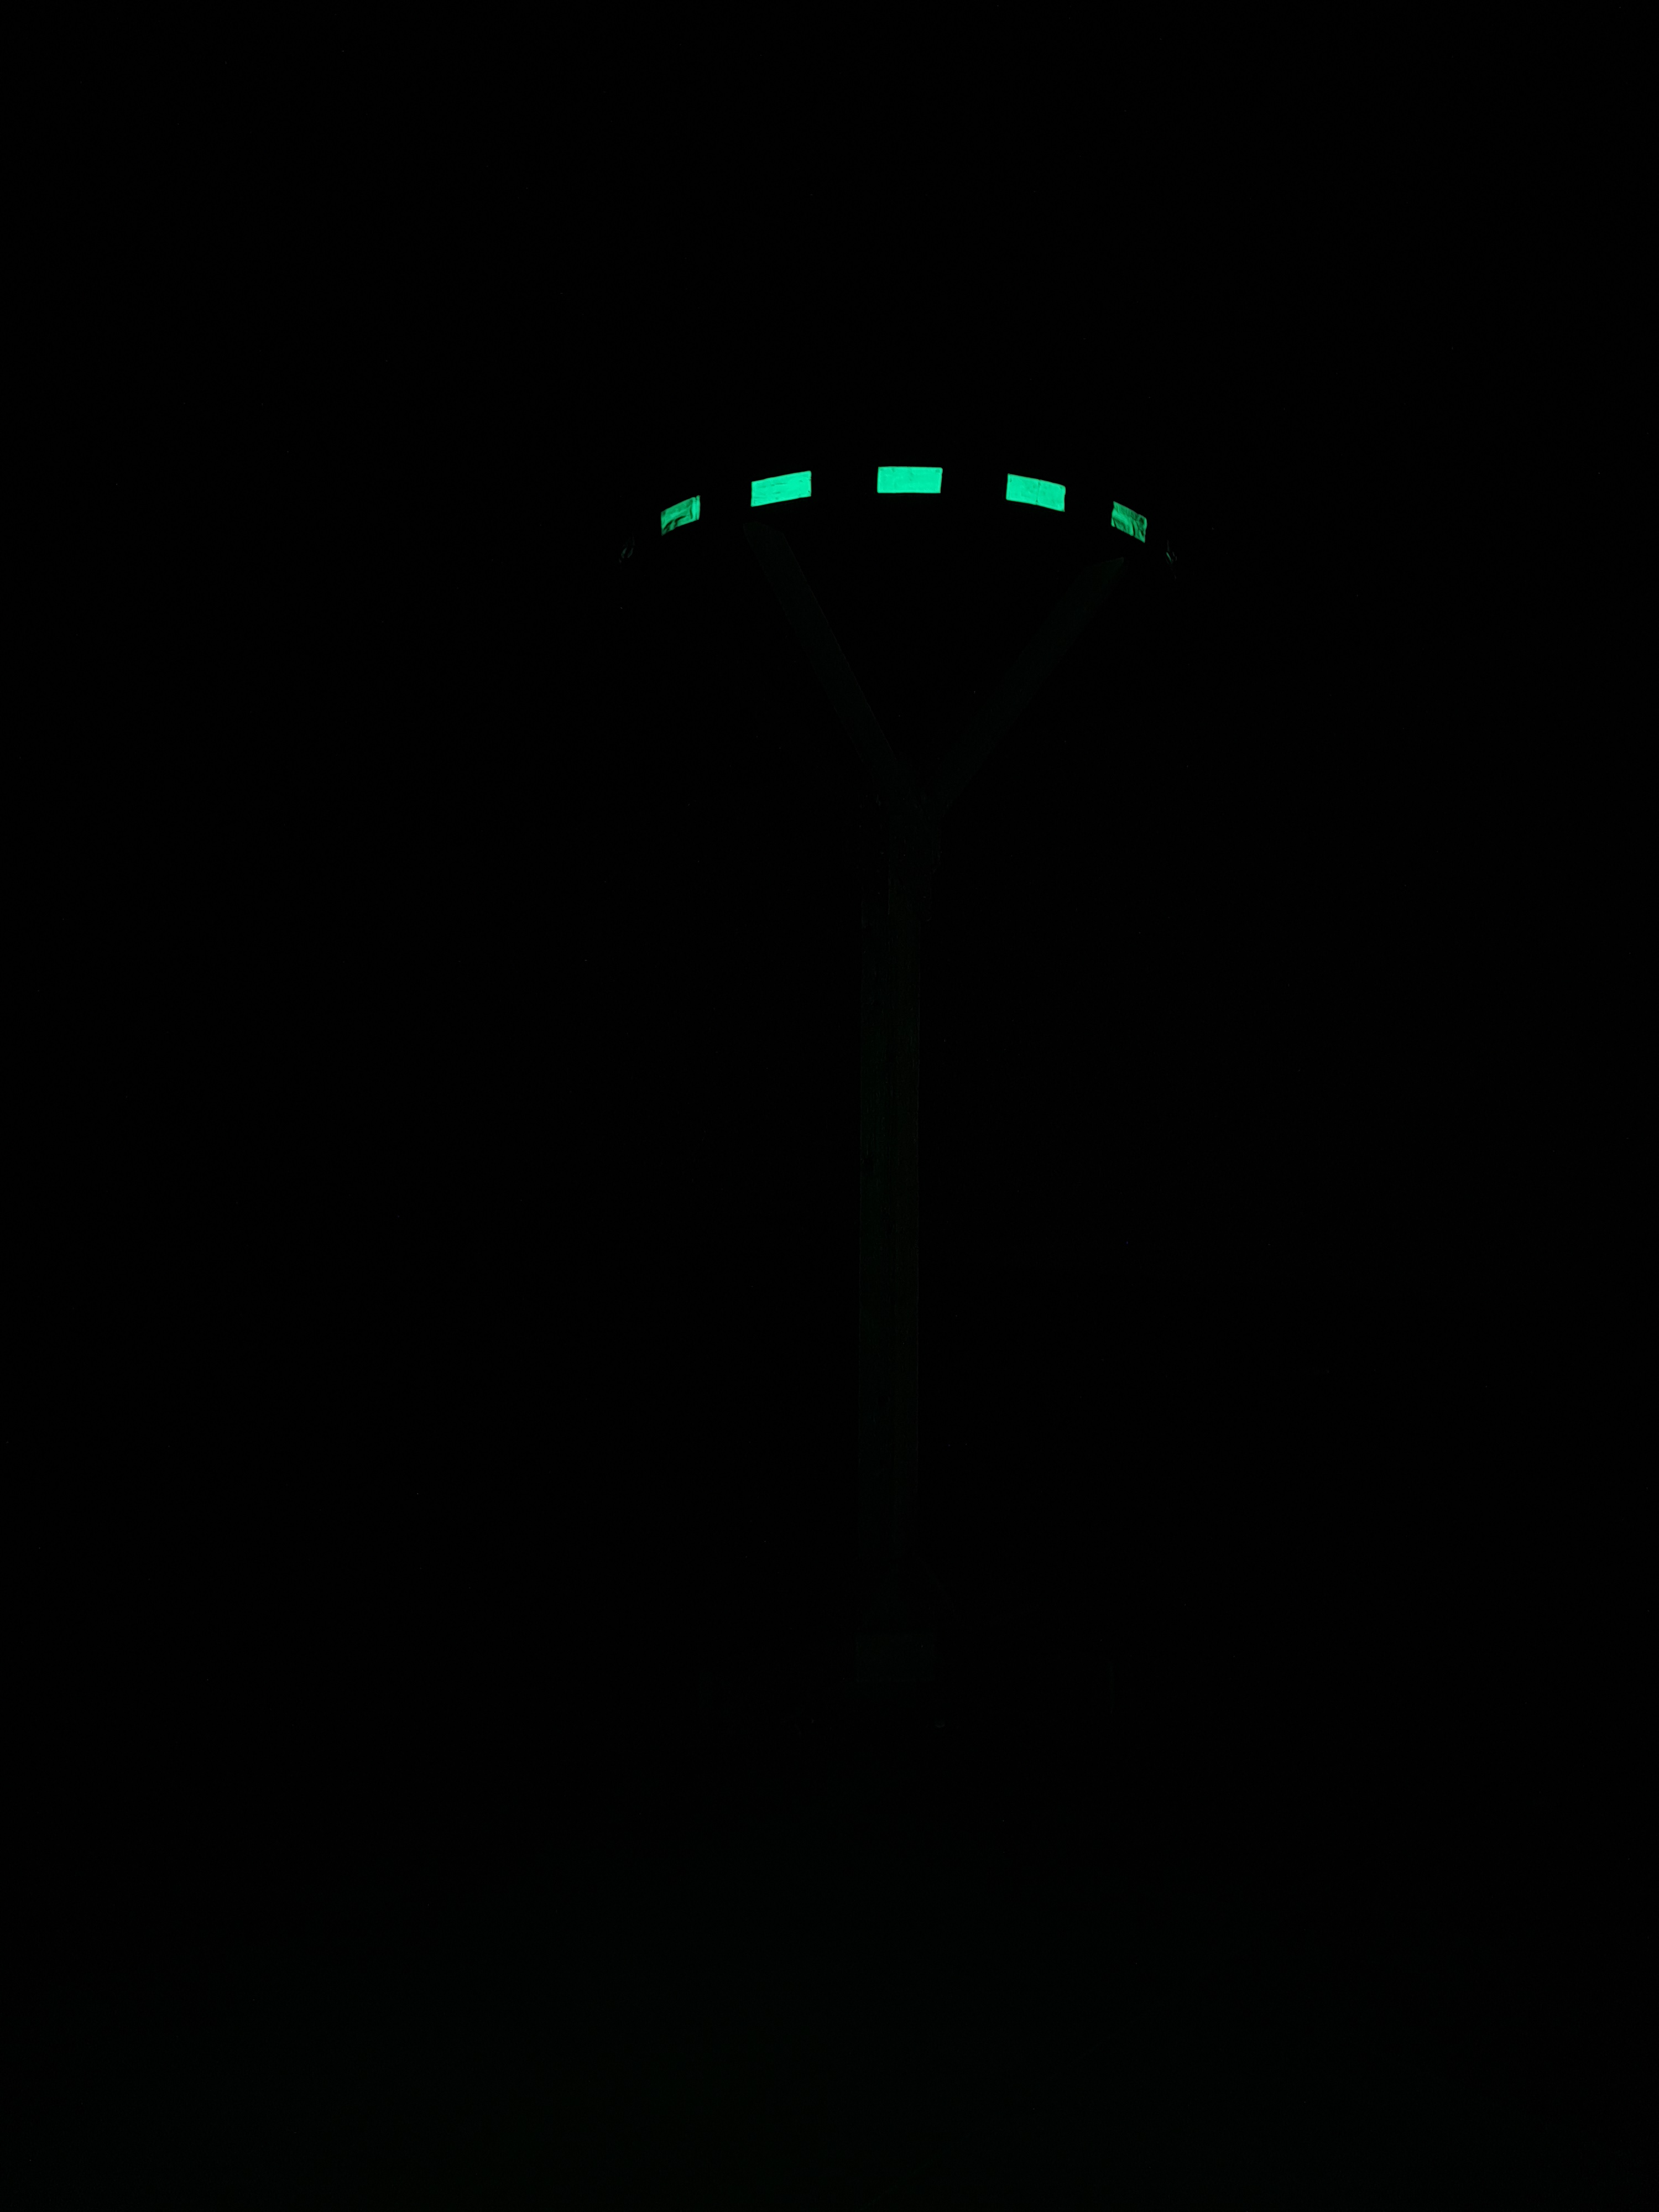hoop: (652, 460, 1152, 547)
